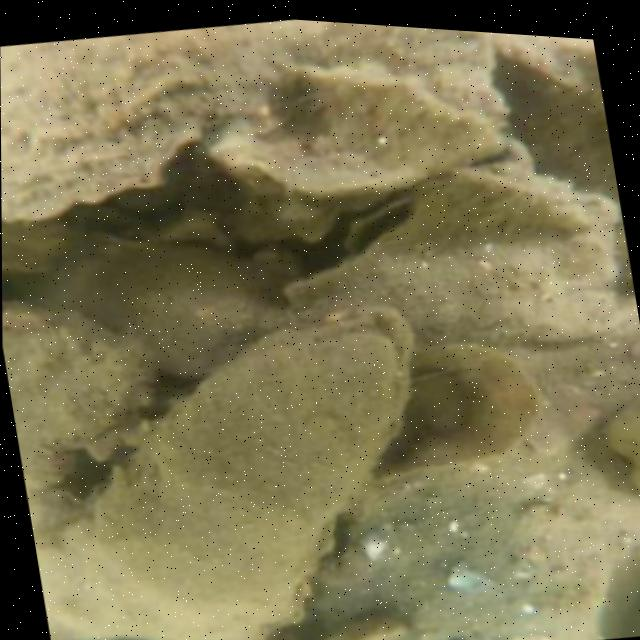Oyster-Closed: (90, 306, 423, 640), (203, 65, 532, 245)
Oyster-Indeterminate: (294, 172, 628, 344), (0, 28, 306, 211), (308, 488, 628, 640), (34, 243, 278, 375), (363, 343, 551, 493), (3, 300, 149, 479), (264, 21, 494, 106)
